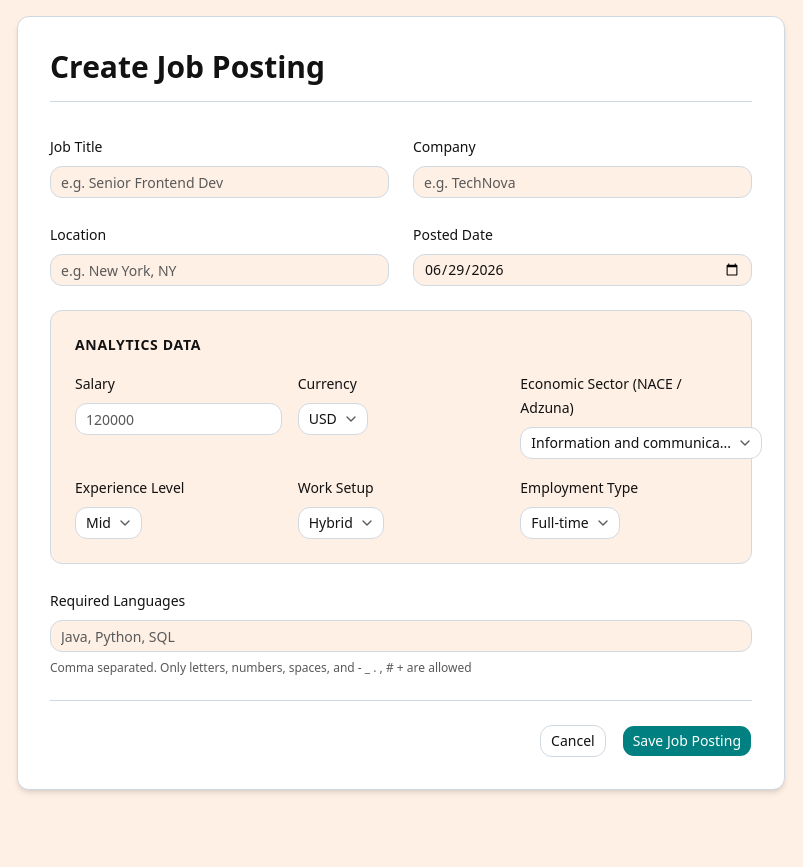
it: AddJob Form Validation › shows validation errors for empty required fields on submit
Click the button "Save Job Posting" at (687, 741), box [622, 725, 752, 757]
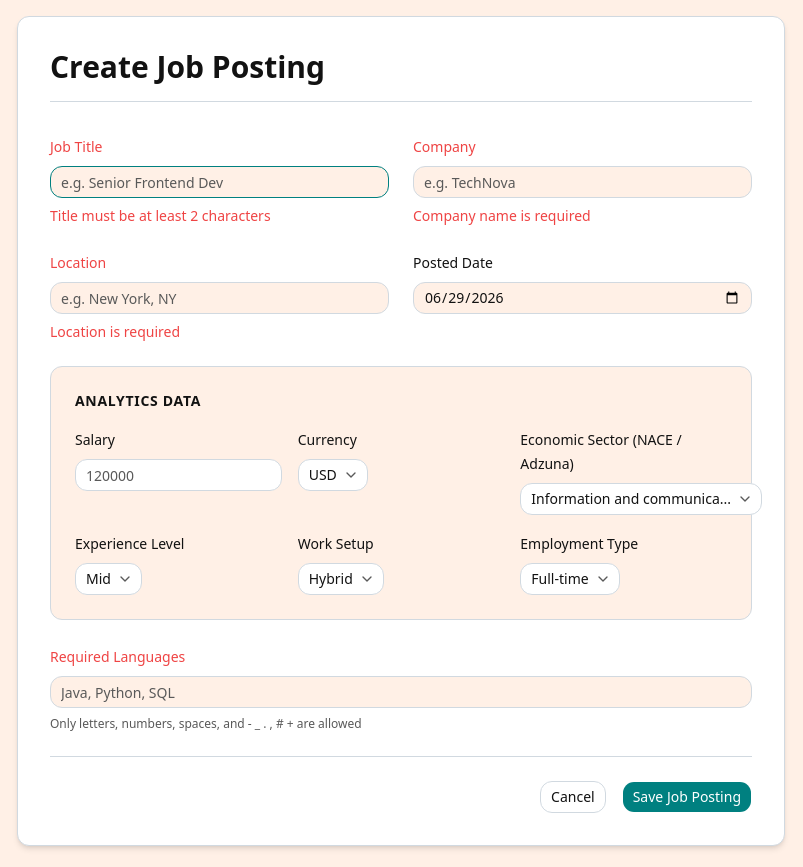
Now the text "Title must be at least 2 characters" is shown, box [50, 206, 271, 225]
Now the text "Company name is required" is shown, box [413, 206, 591, 225]
Now the text "Location is required" is shown, box [50, 322, 180, 341]
